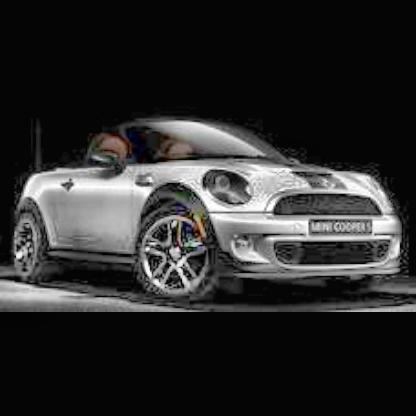MINI Cooper Roadster Convertible 2012: (17, 119, 407, 301)
